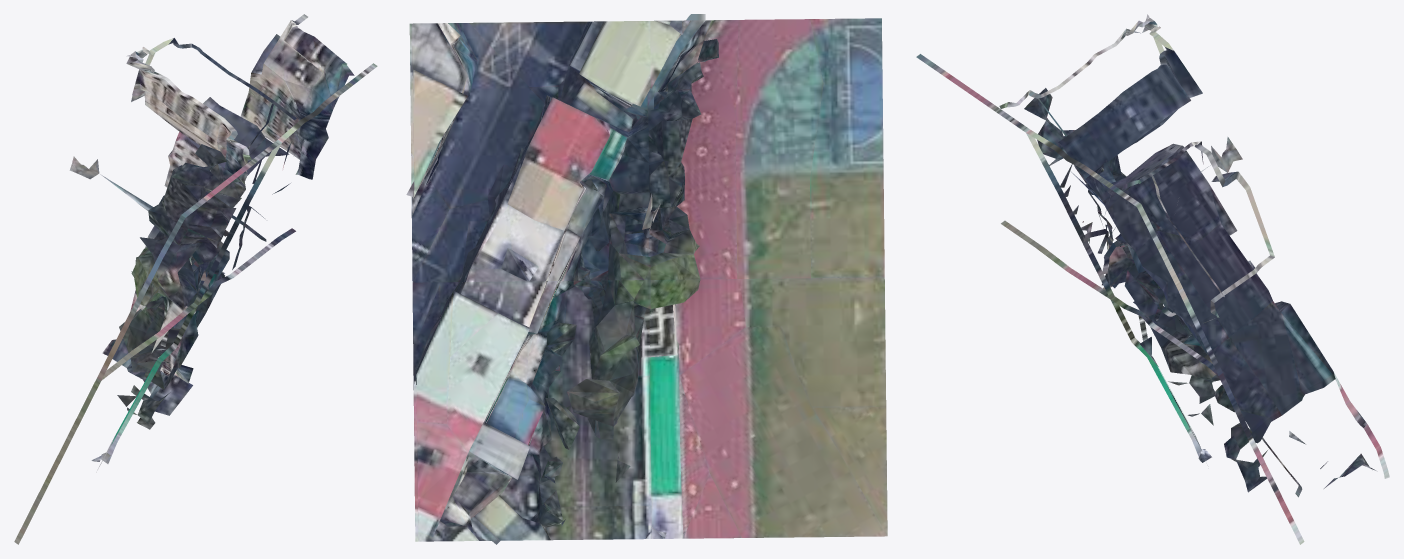
3 renders of one model, left to right at view 1: azimuth 30°, elevation 25°; view 2: azimuth 150°, elevation 25°; view 3: azimuth 270°, elevation 25°, orthographic. The views are drawn at different scales.
Bounding box in the file's own units: 76.37 × 81.76 × 78.23.
Materials: 2 (2 with a texture image).
